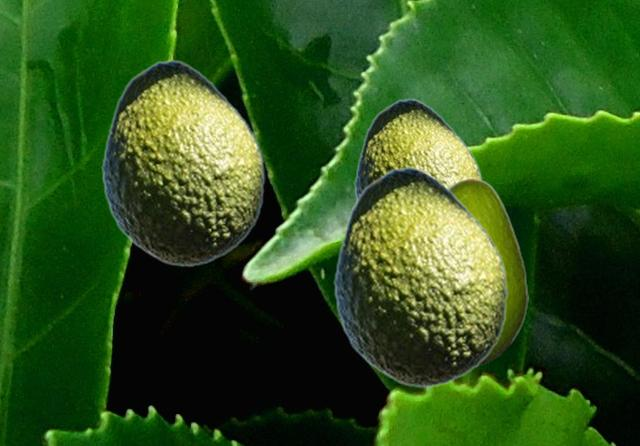avocado: (332, 166, 507, 387), (100, 59, 264, 266), (448, 177, 527, 366), (353, 98, 482, 201)
